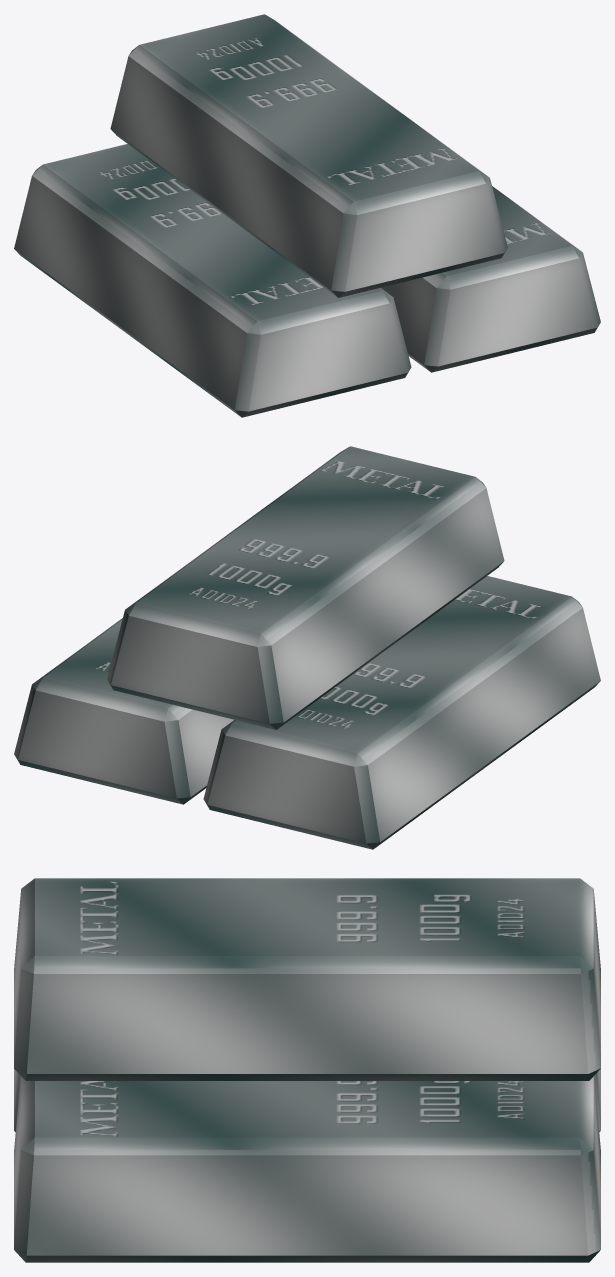
File: Metal_00.fbx
3 renders of one model, top to bottom at view 1: azimuth 30°, elevation 25°; view 2: azimuth 150°, elevation 25°; view 3: azimuth 270°, elevation 25°, orthographic. The views are drawn at different scales.
Visible parts, largest first — view 1: Sphere.002; view 2: Sphere.002; view 3: Sphere.002.
Part boxes in pixels (x1,y1,x2,y2): Sphere.002: (14, 14, 600, 417); Sphere.002: (14, 446, 600, 849); Sphere.002: (14, 878, 600, 1262).
Bounding box in the file's own units: 110 × 53.55 × 120.
